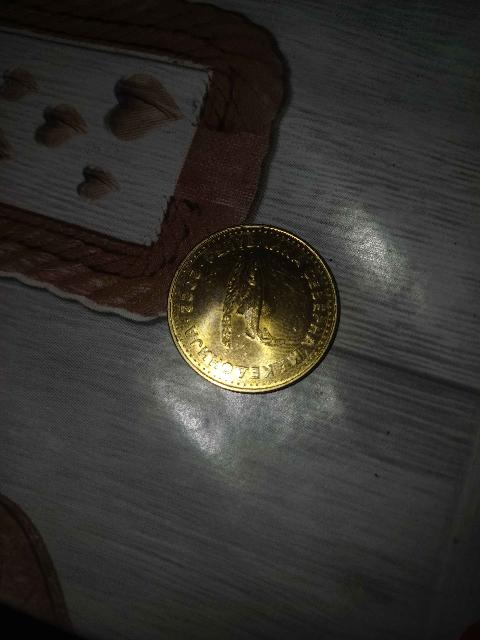coin: (168, 225, 339, 392)
